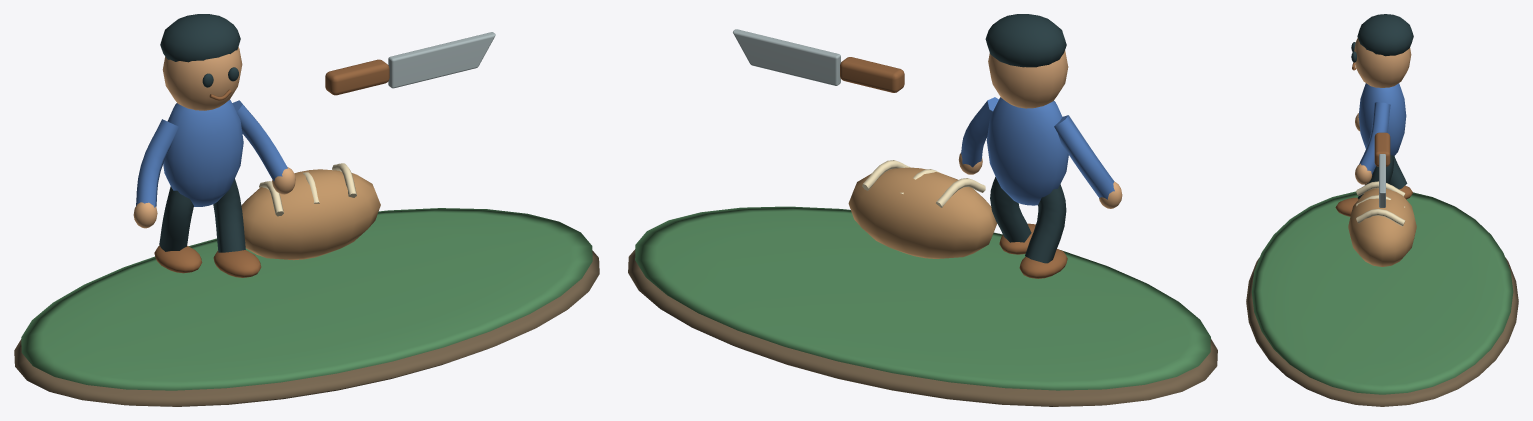
Rendered from complete-second-person-portion.glb.
3 views of the same model, side by side, from view 1: azimuth 30°, elevation 25°; view 2: azimuth 150°, elevation 25°; view 3: azimuth 270°, elevation 25° (orthographic). The views are drawn at different scales.
Parts seen in each view (by area): view 1: complete-second-person-portion_surface_01, complete-second-person-portion_surface_00, complete-second-person-portion_surface_05, complete-second-person-portion_surface_07, complete-second-person-portion_surface_03, complete-second-person-portion_surface_02, complete-second-person-portion_surface_04, complete-second-person-portion_surface_06, complete-second-person-portion_surface_08; view 2: complete-second-person-portion_surface_01, complete-second-person-portion_surface_00, complete-second-person-portion_surface_05, complete-second-person-portion_surface_07, complete-second-person-portion_surface_03, complete-second-person-portion_surface_02, complete-second-person-portion_surface_06, complete-second-person-portion_surface_04, complete-second-person-portion_surface_08; view 3: complete-second-person-portion_surface_01, complete-second-person-portion_surface_00, complete-second-person-portion_surface_07, complete-second-person-portion_surface_05, complete-second-person-portion_surface_03, complete-second-person-portion_surface_02, complete-second-person-portion_surface_04, complete-second-person-portion_surface_08, complete-second-person-portion_surface_06.
Boxes of the visible parts, x1,y1,x2,y2 form: complete-second-person-portion_surface_01: (21,208,592,390); complete-second-person-portion_surface_00: (14,250,599,406); complete-second-person-portion_surface_05: (136,100,287,207); complete-second-person-portion_surface_07: (241,169,380,260); complete-second-person-portion_surface_03: (159,14,245,252); complete-second-person-portion_surface_02: (133,47,295,228); complete-second-person-portion_surface_04: (154,59,389,277); complete-second-person-portion_surface_06: (388,32,495,88); complete-second-person-portion_surface_08: (259,163,356,216); complete-second-person-portion_surface_01: (635,206,1210,390); complete-second-person-portion_surface_00: (628,249,1217,406); complete-second-person-portion_surface_05: (961,97,1114,205); complete-second-person-portion_surface_07: (848,167,997,258); complete-second-person-portion_surface_03: (985,14,1066,263); complete-second-person-portion_surface_02: (958,50,1122,208); complete-second-person-portion_surface_06: (733,29,840,85); complete-second-person-portion_surface_04: (840,57,1067,278); complete-second-person-portion_surface_08: (862,160,985,207); complete-second-person-portion_surface_01: (1251,191,1513,394); complete-second-person-portion_surface_00: (1246,257,1518,406); complete-second-person-portion_surface_07: (1348,188,1416,266); complete-second-person-portion_surface_05: (1358,83,1406,174); complete-second-person-portion_surface_03: (1351,14,1413,199); complete-second-person-portion_surface_02: (1354,38,1411,184); complete-second-person-portion_surface_04: (1335,62,1412,216); complete-second-person-portion_surface_08: (1356,181,1405,226); complete-second-person-portion_surface_06: (1379,154,1385,207).
Size of the model in its own units: 4.56 by 2.6 by 2.5.
